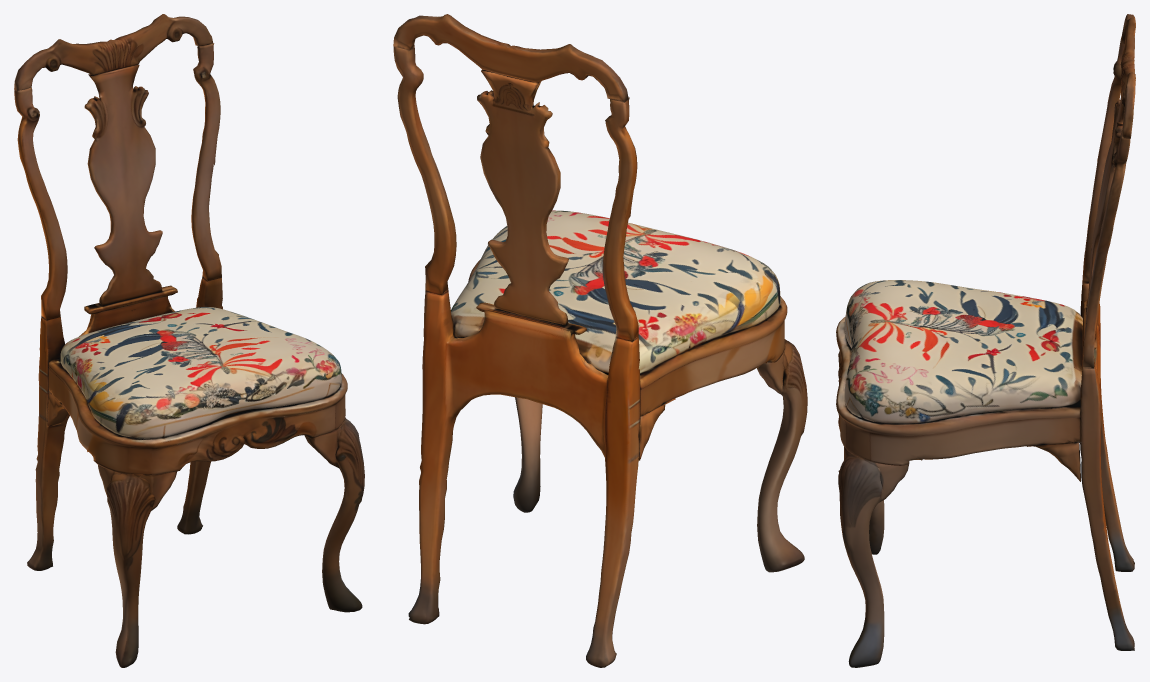
3 renders of one model, left to right at view 1: azimuth 30°, elevation 25°; view 2: azimuth 150°, elevation 25°; view 3: azimuth 270°, elevation 25°, orthographic. The views are drawn at different scales.
Visible parts, largest first — view 1: root.1, root.0.1.1, root.0.0, root.0.1.0, root.0.1.2, root.3, root.0.1.3, root.2, root.0.1.4, root.0.2, root.0.1.5, root.0.3; view 2: root.0.1.0, root.1, root.0.1.1, root.0.1.2, root.0.0, root.3, root.0.1.4, root.0.1.3, root.2, root.0.2, root.0.1.5, root.0.4; view 3: root.1, root.0.0, root.0.1.0, root.2, root.0.1.4, root.0.1.3, root.0.1.2, root.0.1.1, root.0.5, root.0.3, root.3.
Part boxes in pixels (x1,y1,x2,y2): root.1: [60, 307, 341, 438]; root.0.1.1: [84, 64, 162, 305]; root.0.0: [48, 359, 347, 475]; root.0.1.0: [27, 276, 222, 570]; root.0.1.2: [14, 14, 212, 91]; root.3: [106, 473, 155, 667]; root.0.1.3: [14, 87, 67, 320]; root.2: [322, 418, 364, 612]; root.0.1.4: [191, 43, 221, 280]; root.0.2: [98, 465, 177, 510]; root.0.1.5: [84, 285, 177, 314]; root.0.3: [304, 417, 345, 472]; root.0.1.0: [408, 289, 640, 667]; root.1: [451, 210, 780, 374]; root.0.1.1: [477, 69, 568, 325]; root.0.1.2: [393, 14, 628, 102]; root.0.0: [456, 259, 787, 416]; root.3: [757, 339, 807, 572]; root.0.1.4: [393, 45, 456, 295]; root.0.1.3: [602, 97, 638, 341]; root.2: [513, 397, 542, 512]; root.0.2: [757, 346, 785, 394]; root.0.1.5: [476, 302, 586, 334]; root.0.4: [638, 398, 675, 460]; root.1: [844, 280, 1083, 423]; root.0.0: [836, 317, 1080, 465]; root.0.1.0: [1080, 280, 1134, 650]; root.2: [838, 456, 884, 667]; root.0.1.4: [1082, 131, 1130, 368]; root.0.1.3: [1082, 36, 1124, 282]; root.0.1.2: [1120, 14, 1135, 138]; root.0.1.1: [1087, 97, 1124, 306]; root.0.5: [1026, 442, 1080, 481]; root.0.3: [844, 447, 909, 502]; root.3: [838, 368, 884, 554].
Bounding box in the file's own units: 0.5069 × 1.02 × 0.4942.
14 materials, 14 textured.
